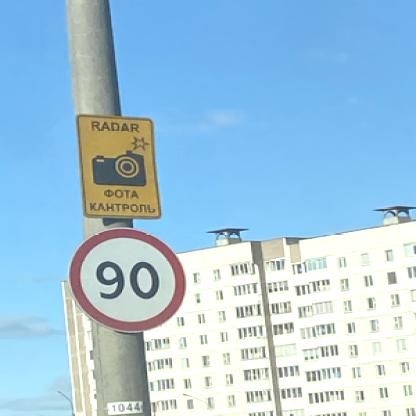speedlimit: (65, 228, 185, 330)
